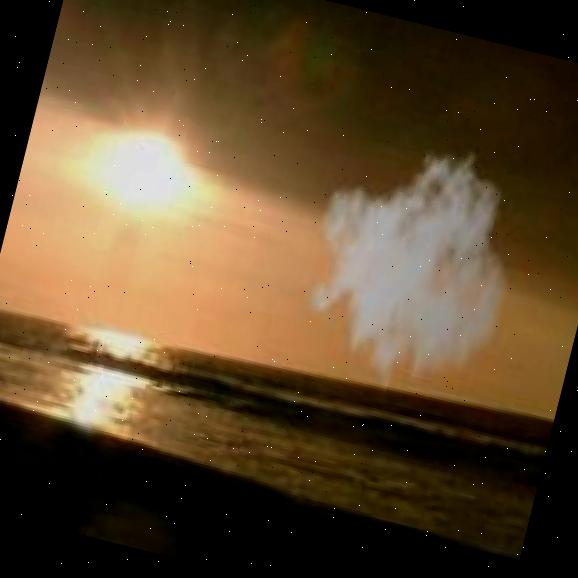smoke: (280, 118, 540, 430)
